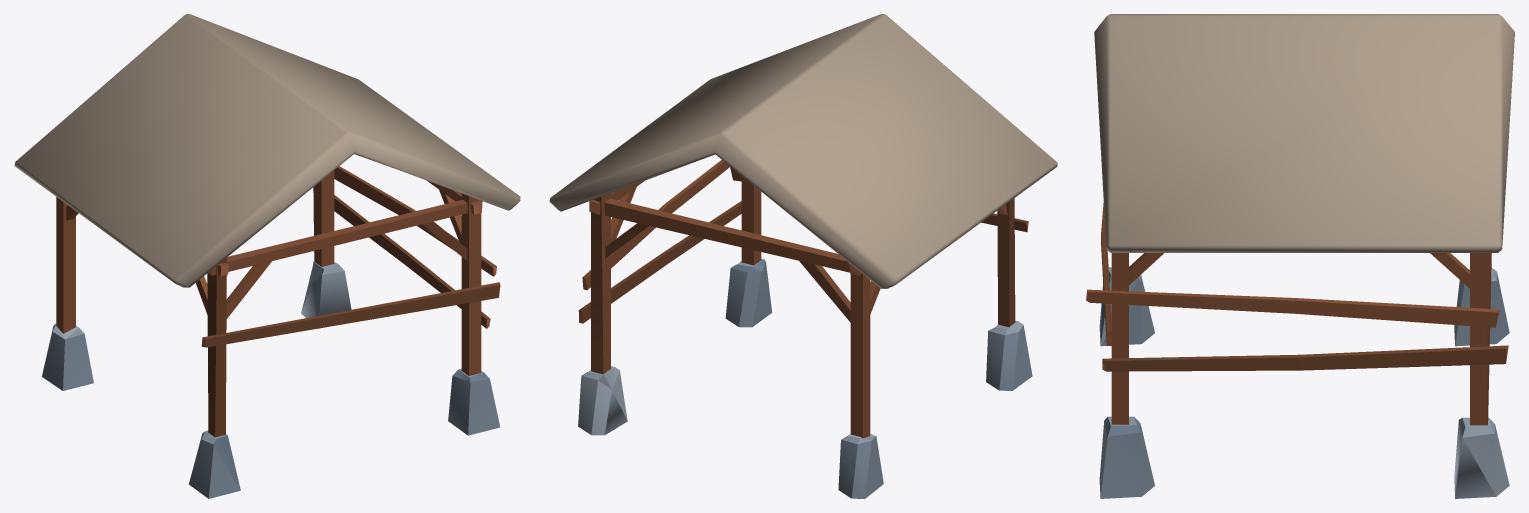
Rendered from Hut.glb.
The picture shows the model from 3 angles, left to right: view 1: azimuth 30°, elevation 25°; view 2: azimuth 150°, elevation 25°; view 3: azimuth 270°, elevation 25°; orthographic projection. The views are drawn at different scales.
Parts seen in each view (by area): view 1: Scene.1964; view 2: Scene.1964; view 3: Scene.1964.
Boxes of the visible parts, x1=… form: Scene.1964: x1=14, y1=14, x2=520, y2=498; Scene.1964: x1=549, y1=14, x2=1057, y2=498; Scene.1964: x1=1086, y1=14, x2=1514, y2=498.
Size of the model in its own units: 3.85 by 3.5 by 3.43.
Materials: 1 (1 with a texture image).
